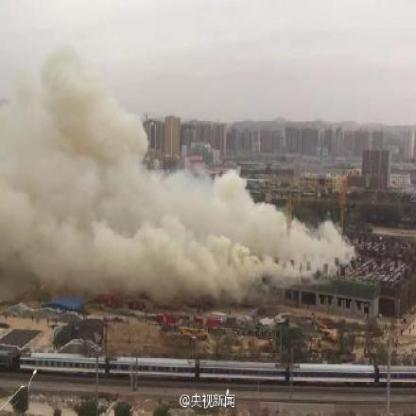smoke: (2, 134, 90, 284), (6, 50, 136, 138), (90, 134, 154, 290), (156, 172, 218, 292), (218, 184, 282, 290), (284, 209, 348, 261)
